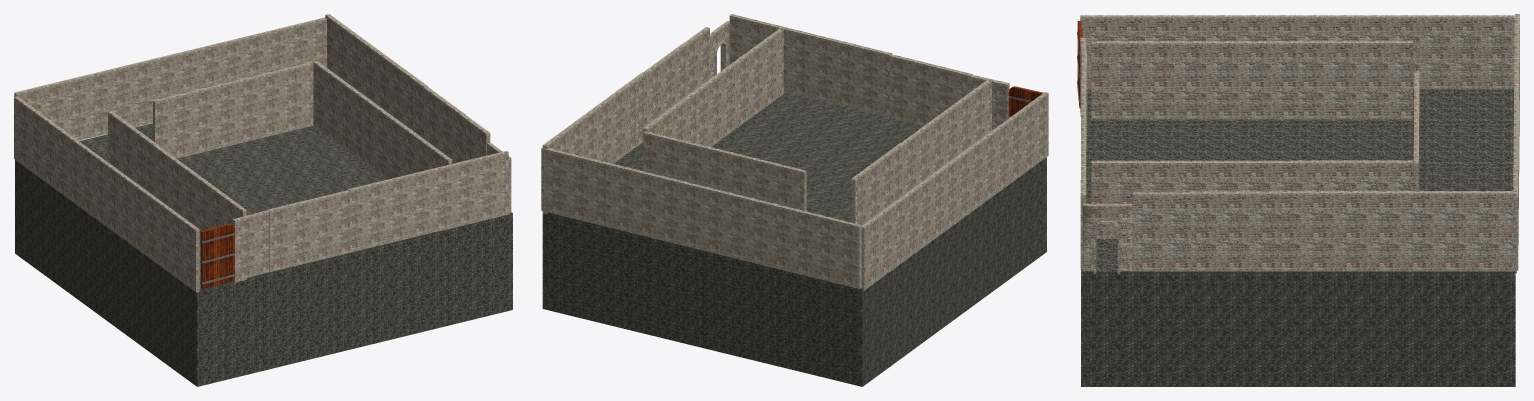
The model's file is map4.obj.
3 renders of one model, left to right at view 1: azimuth 30°, elevation 25°; view 2: azimuth 150°, elevation 25°; view 3: azimuth 270°, elevation 25°, orthographic. The views are drawn at different scales.
Parts seen in each view (by area): view 1: FloorBox, Box001.001, Box001.008, Box001.005, Box001.011_Box001.022, Box001.006, Box001.002, Box001.009_Box001.020, Box001.012_Box001.023, Box001.013_Box001.024, Box001.003, Box001.007 (+3 smaller); view 2: FloorBox, Box001.001, Box001.008, Box001.005, Box001.011_Box001.022, Box001.012_Box001.023, Box001.009_Box001.020, Box001.002, Box001.006, Box001.003, Box001.010_Box001.021, Box001.013_Box001.024 (+4 smaller); view 3: FloorBox, Box001.002, Box001.008, Box001.009_Box001.020, Box001.010_Box001.021, Box001.012_Box001.023, Box001.003, Box001.004, Box001.013_Box001.024, Box001, Box001.001, Box001.005 (+1 smaller).
Part boxes in pixels (left/top/right/bottom): FloorBox: left=15, top=123, right=512, bottom=386; Box001.001: left=14, top=17, right=326, bottom=140; Box001.008: left=14, top=96, right=199, bottom=292; Box001.005: left=347, top=151, right=508, bottom=252; Box001.011_Box001.022: left=153, top=62, right=313, bottom=158; Box001.006: left=268, top=190, right=349, bottom=271; Box001.002: left=325, top=14, right=427, bottom=130; Box001.009_Box001.020: left=146, top=141, right=246, bottom=243; Box001.012_Box001.023: left=361, top=96, right=452, bottom=179; Box001.013_Box001.024: left=313, top=61, right=365, bottom=160; Box001.003: left=413, top=80, right=465, bottom=163; Box001.007: left=232, top=210, right=269, bottom=282; FloorBox: left=542, top=91, right=1046, bottom=386; Box001.001: left=541, top=147, right=861, bottom=288; Box001.008: left=861, top=92, right=1048, bottom=290; Box001.005: left=729, top=14, right=892, bottom=117; Box001.011_Box001.022: left=644, top=131, right=806, bottom=211; Box001.012_Box001.023: left=692, top=28, right=783, bottom=146; Box001.009_Box001.020: left=894, top=79, right=991, bottom=201; Box001.002: left=542, top=72, right=646, bottom=213; Box001.006: left=890, top=54, right=972, bottom=125; Box001.003: left=636, top=44, right=685, bottom=146; Box001.010_Box001.021: left=851, top=143, right=903, bottom=225; Box001.013_Box001.024: left=643, top=92, right=696, bottom=171; FloorBox: left=1081, top=89, right=1515, bottom=386; Box001.002: left=1282, top=191, right=1516, bottom=273; Box001.008: left=1080, top=15, right=1514, bottom=89; Box001.009_Box001.020: left=1091, top=41, right=1297, bottom=119; Box001.010_Box001.021: left=1298, top=40, right=1413, bottom=119; Box001.012_Box001.023: left=1091, top=160, right=1320, bottom=238; Box001.003: left=1190, top=191, right=1281, bottom=271; Box001.004: left=1133, top=192, right=1190, bottom=271; Box001.013_Box001.024: left=1298, top=160, right=1413, bottom=190; Box001: left=1083, top=203, right=1132, bottom=273; Box001.001: left=1513, top=14, right=1519, bottom=270; Box001.005: left=1080, top=103, right=1086, bottom=268.
Bounding box in the file's own units: 515 × 252 × 522.
